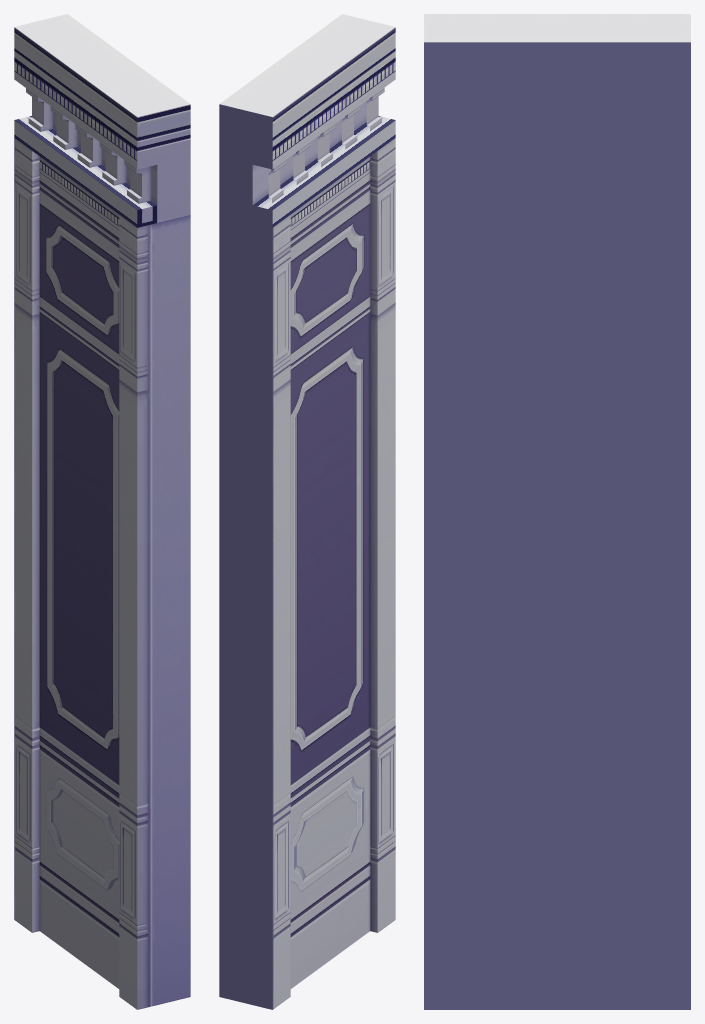
The model's file is my_gehennaparty_01_wall_right.glb.
3 renders of one model, left to right at view 1: azimuth 30°, elevation 25°; view 2: azimuth 150°, elevation 25°; view 3: azimuth 270°, elevation 25°, orthographic. The views are drawn at different scales.
Parts seen in each view (by area): view 1: my_gehennaparty_01_wall_right; view 2: my_gehennaparty_01_wall_right; view 3: my_gehennaparty_01_wall_right.
Boxes of the visible parts, x1,y1,x2,y2 form: my_gehennaparty_01_wall_right: (14,14,190,1009); my_gehennaparty_01_wall_right: (219,14,395,1009); my_gehennaparty_01_wall_right: (424,14,690,1009).
Bounding box in the file's own units: 0.003 × 0.048 × 0.012.
Materials: 1 (1 with a texture image).
